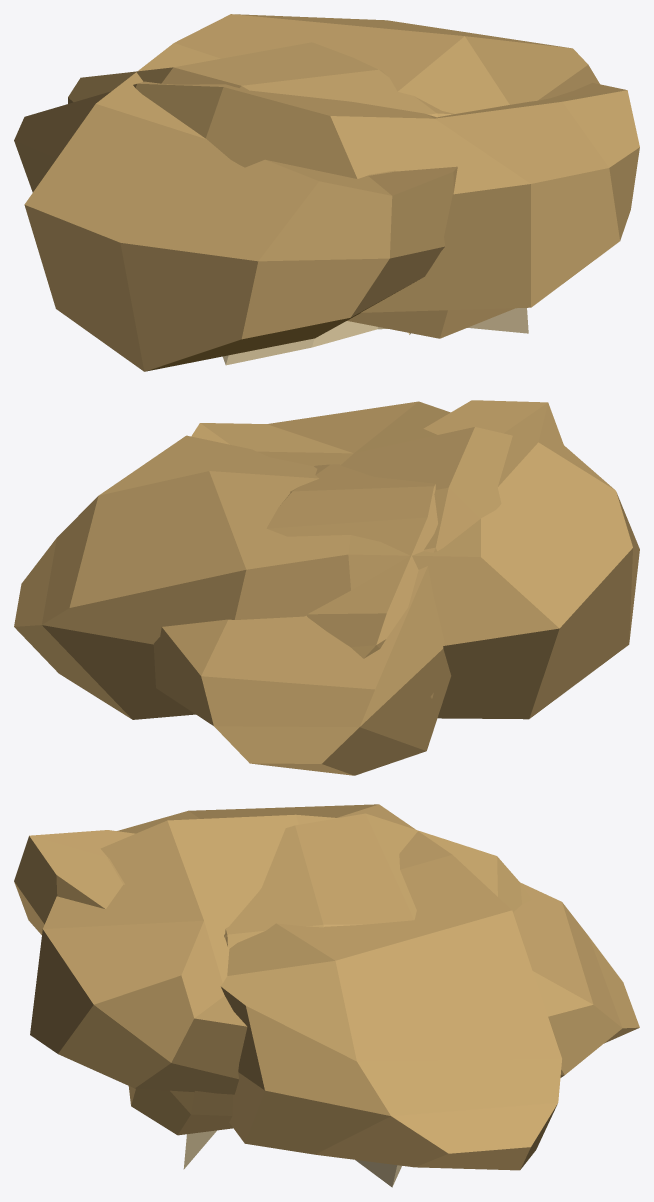
The model's file is rocks.fbx.
3 views of the same model, one above another, from view 1: azimuth 30°, elevation 25°; view 2: azimuth 150°, elevation 25°; view 3: azimuth 270°, elevation 25° (orthographic). The views are drawn at different scales.
Visible parts, largest first — view 1: Cube.022, Cube.023, Cube.020, Cube.021; view 2: Cube.022, Cube.023, Cube.020; view 3: Cube.022, Cube.023, Cube.020, Cube.024, Cube.021.
Boxes of the visible parts, <box> form: Cube.022: <box>24,14,599,371</box>; Cube.023: <box>14,81,639,312</box>; Cube.020: <box>68,42,514,338</box>; Cube.021: <box>222,308,528,365</box>; Cube.022: <box>14,400,639,719</box>; Cube.023: <box>153,401,512,775</box>; Cube.020: <box>266,464,437,698</box>; Cube.022: <box>14,804,561,1170</box>; Cube.023: <box>30,814,639,1094</box>; Cube.020: <box>128,813,531,1135</box>; Cube.024: <box>355,1160,401,1187</box>; Cube.021: <box>183,1130,216,1169</box>.
Bounding box in the file's own units: 1471 × 737 × 1453.
